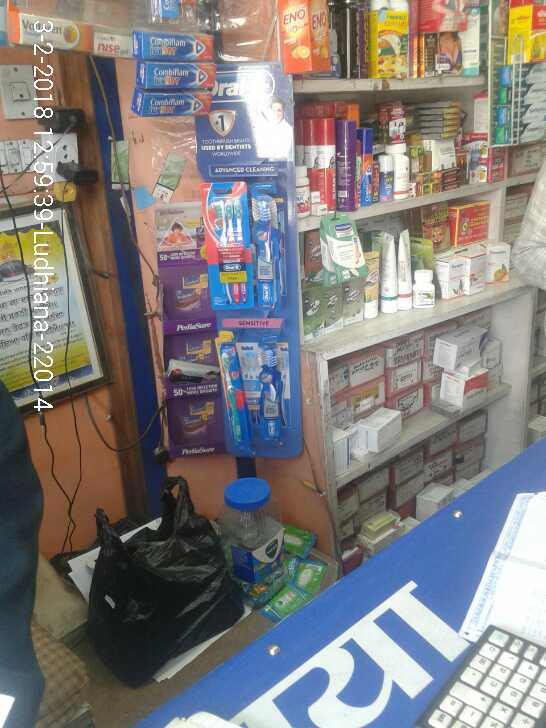oralb: (194, 195, 250, 322), (209, 341, 251, 454), (256, 337, 291, 466), (256, 189, 286, 318)
